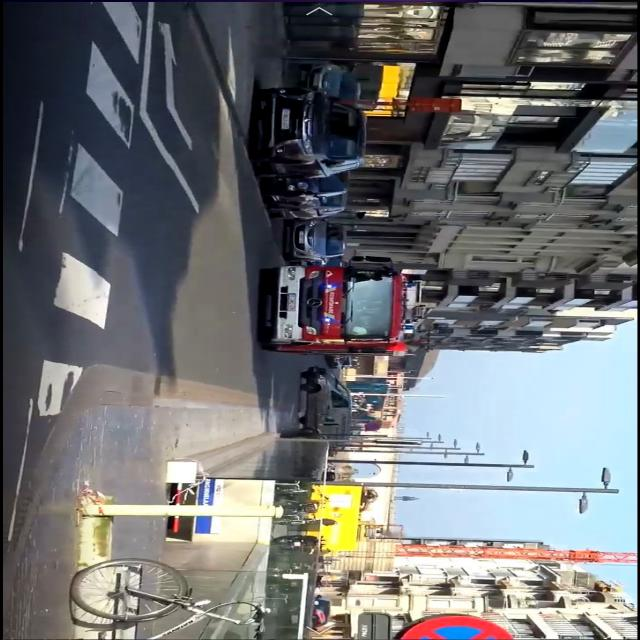emergency: (252, 256, 428, 362)
